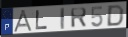5: (90, 5, 104, 27)
A: (12, 9, 34, 33)
D: (106, 4, 125, 27)
I: (59, 7, 65, 30)
L: (35, 10, 49, 31)
R: (70, 7, 88, 29)
